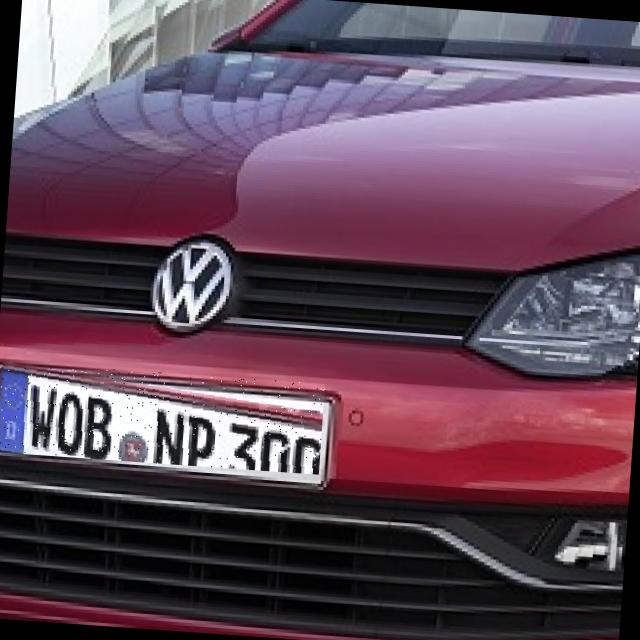Plate: (1, 361, 326, 475)
